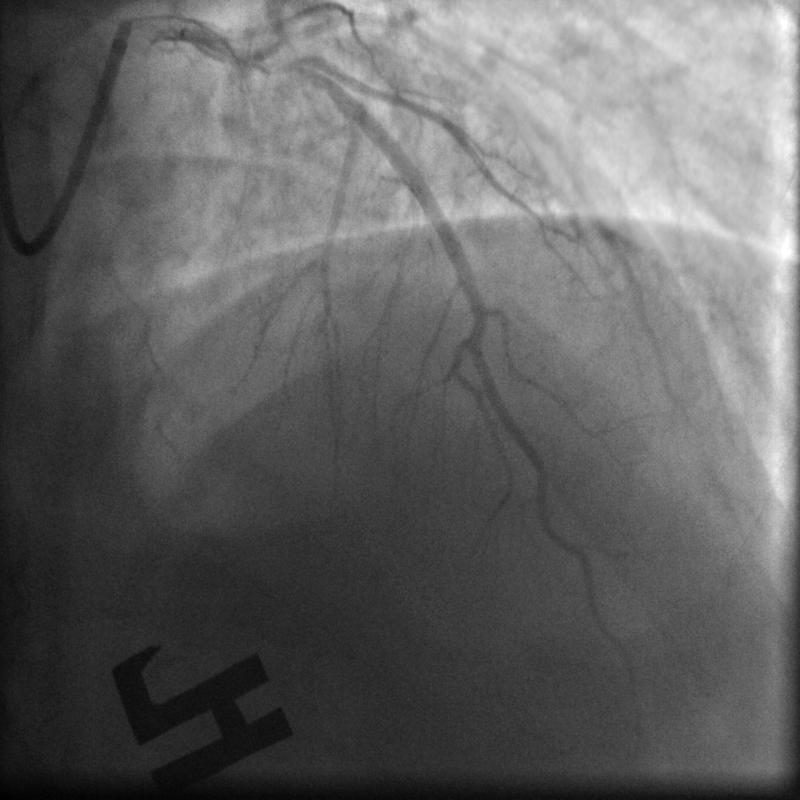Stenosis: (243, 47, 313, 80)
